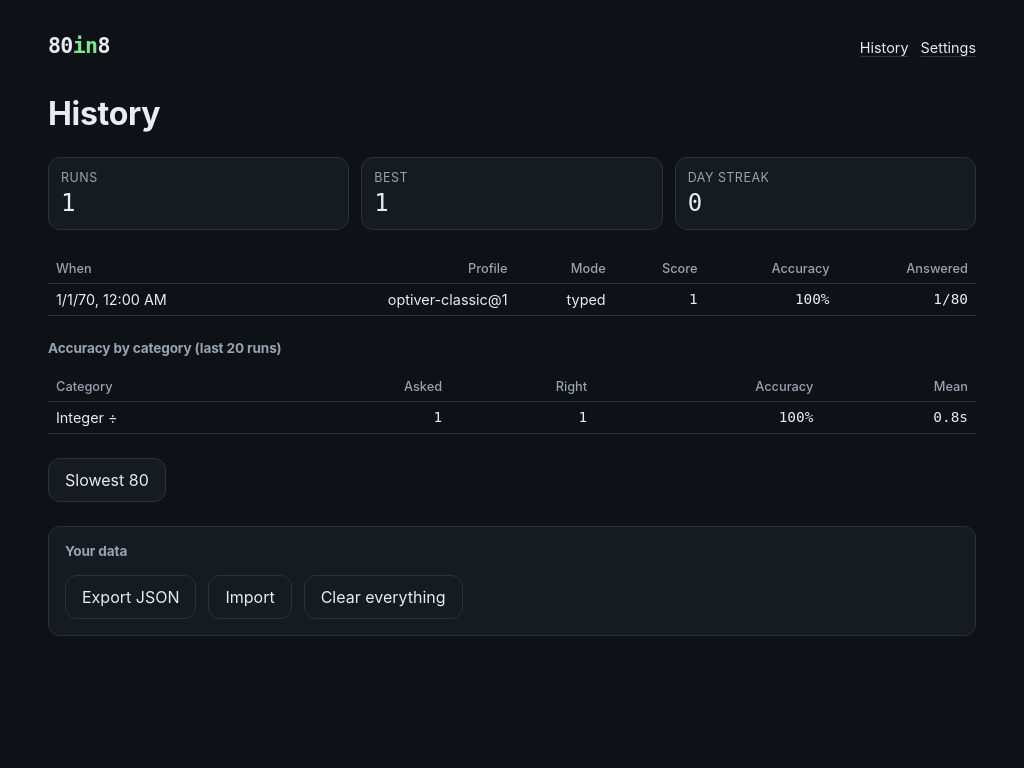
Test: your data › clears everything only after a confirmation
Click the button with test id "clear": [383, 596] box x1=304 y1=574 x2=463 y2=618
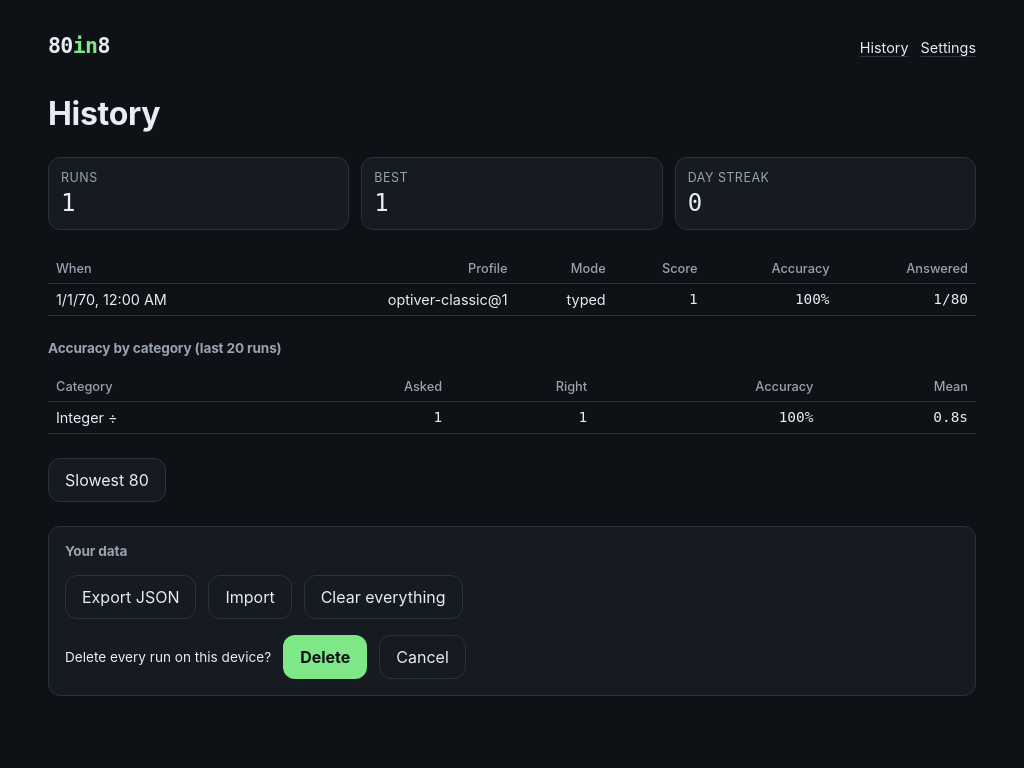
Click the button with test id "clear-no": [423, 656] box x1=379 y1=634 x2=466 y2=678
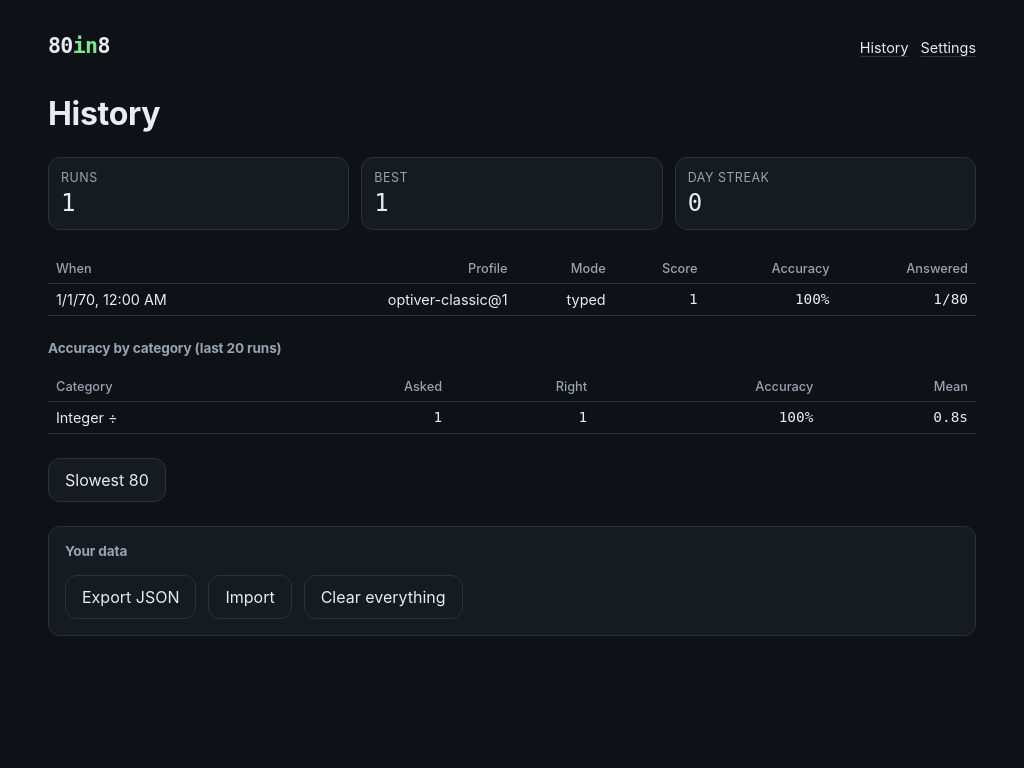
Result: the element with test id "clear-confirm" is gone
Click the button with test id "clear": [383, 596] box x1=304 y1=574 x2=463 y2=618
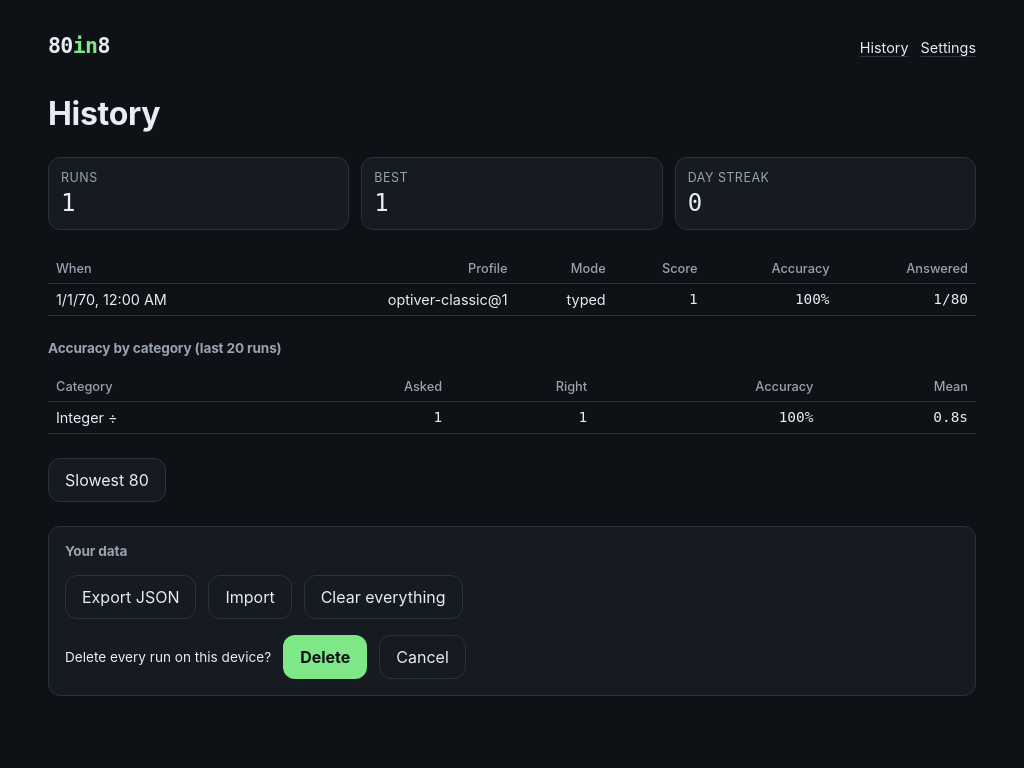
Click the button with test id "clear-yes": [325, 656] box x1=283 y1=634 x2=367 y2=678
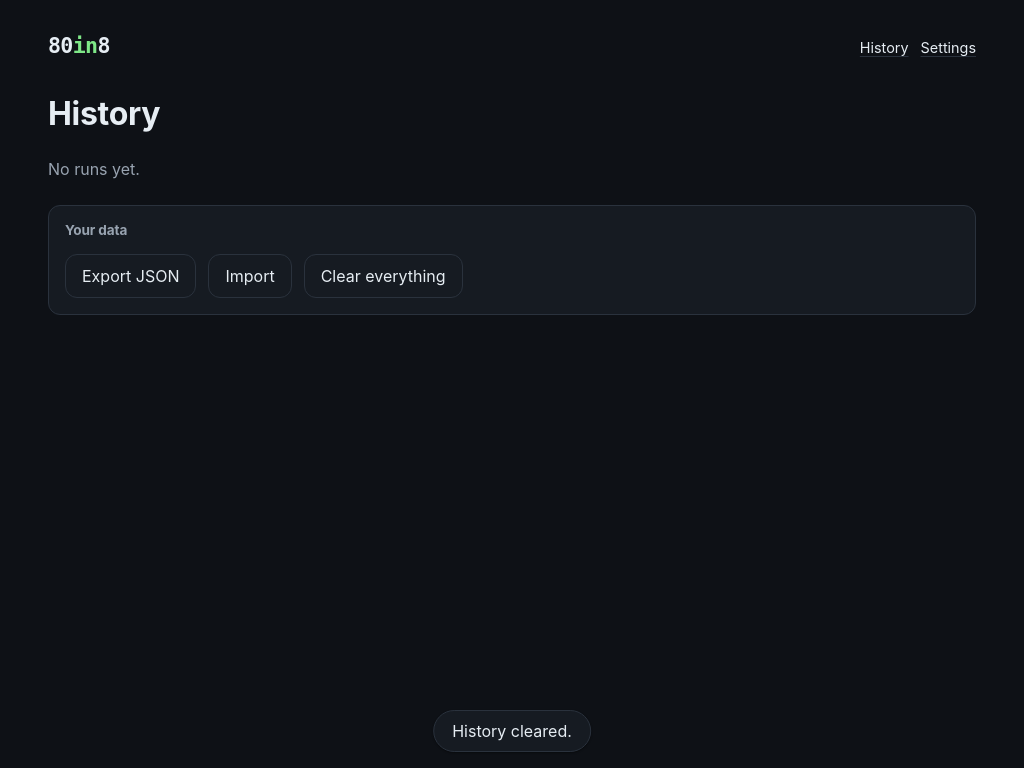
Result: the text "No runs yet." is shown at x1=48 y1=158 x2=140 y2=178
